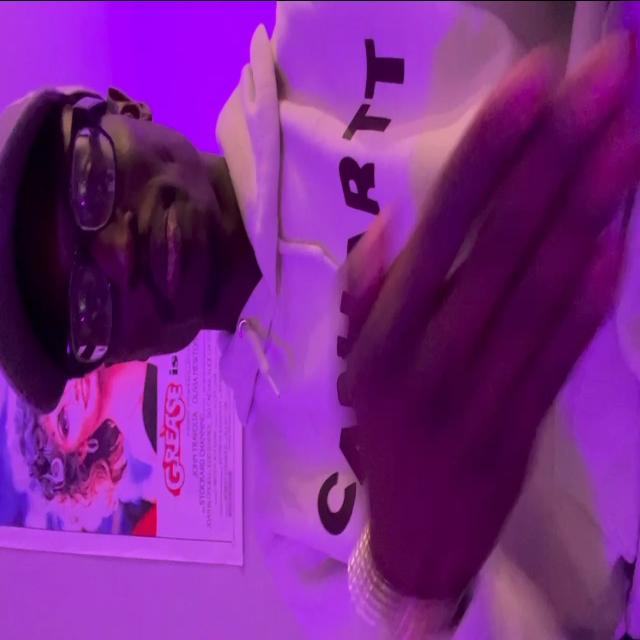Paper: (338, 28, 640, 617)
